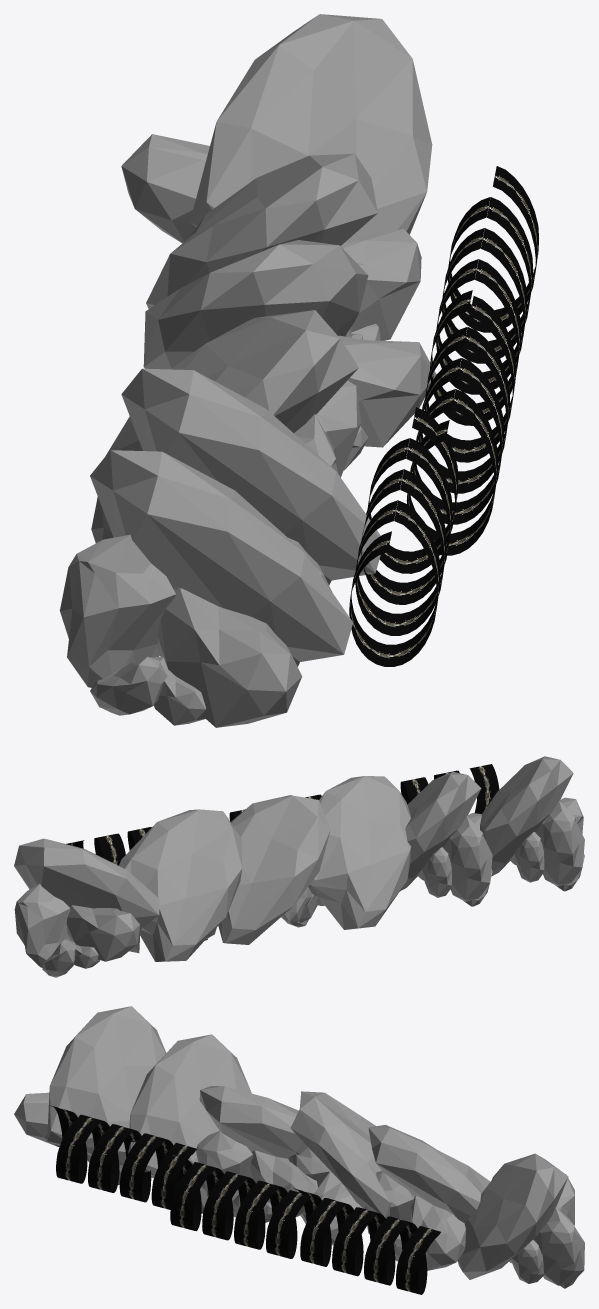
Rendered from BarbedwireANDRocks.fbx.
3 views of the same model, one above another, from view 1: azimuth 30°, elevation 25°; view 2: azimuth 150°, elevation 25°; view 3: azimuth 270°, elevation 25° (orthographic). The views are drawn at different scales.
Parts seen in each view (by area): view 1: BarbedWire.001; view 2: BarbedWire.001; view 3: BarbedWire.001.
Part boxes in pixels (left/top/right/bottom): BarbedWire.001: left=60, top=14, right=538, bottom=727; BarbedWire.001: left=14, top=756, right=584, bottom=977; BarbedWire.001: left=14, top=1006, right=584, bottom=1294.
Bounding box in the file's own units: 3988 × 1370 × 4969.
